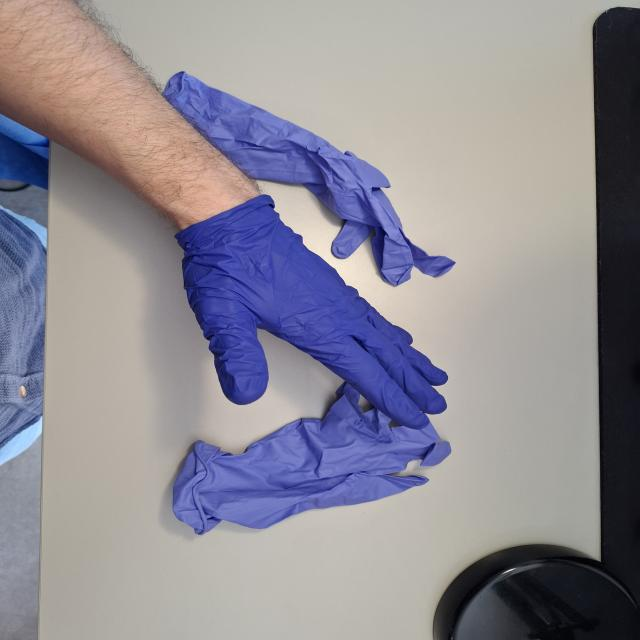glove_on: (168, 188, 456, 431)
